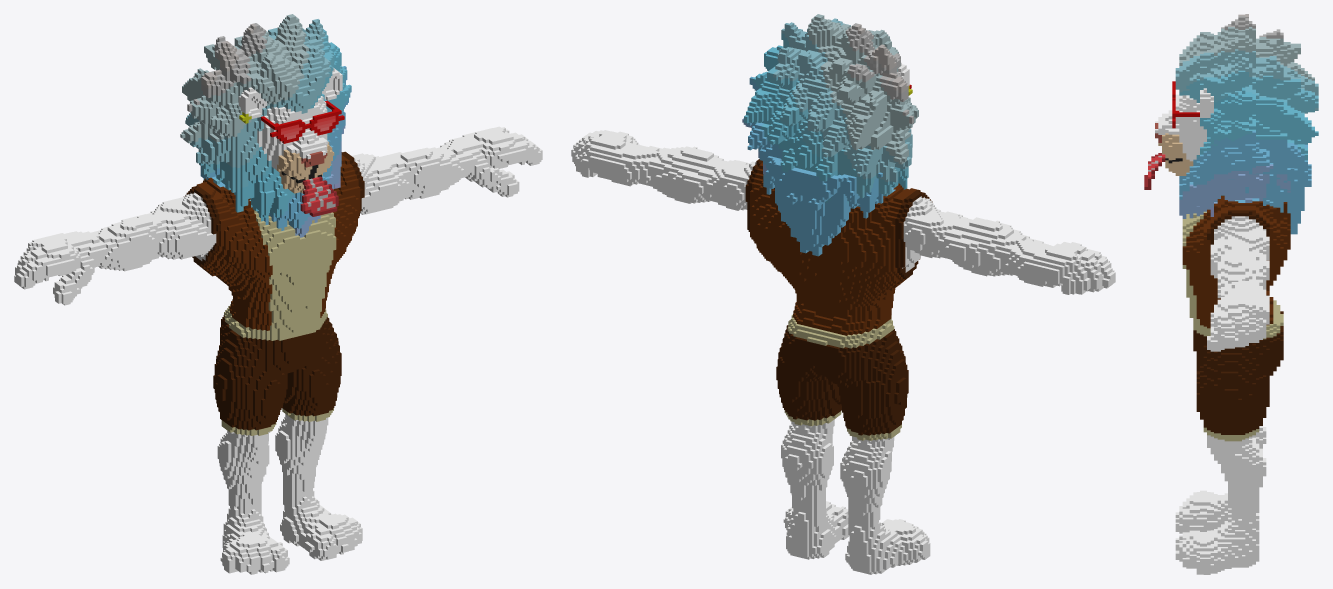
3 views of the same model, side by side, from view 1: azimuth 30°, elevation 25°; view 2: azimuth 150°, elevation 25°; view 3: azimuth 270°, elevation 25° (orthographic). The views are drawn at different scales.
Visible parts, largest first — view 1: meat; view 2: meat; view 3: meat.
Boxes of the visible parts, x1,y1,x2,y2 form: meat: (14, 14, 542, 574); meat: (571, 14, 1115, 574); meat: (1144, 14, 1318, 574).
Size of the model in its own units: 17.2 by 16.5 by 5.
Materials: 6 (6 with a texture image).
